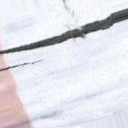crackTip: (1, 7, 128, 71)
